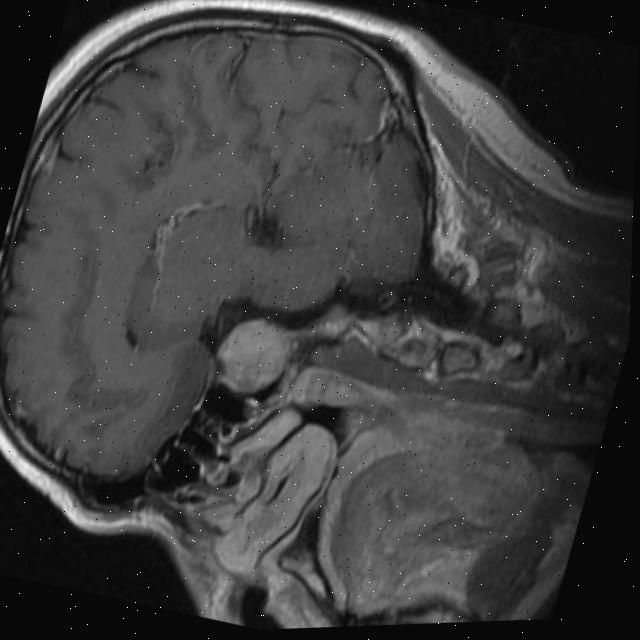Pituitary: (208, 308, 298, 401)
